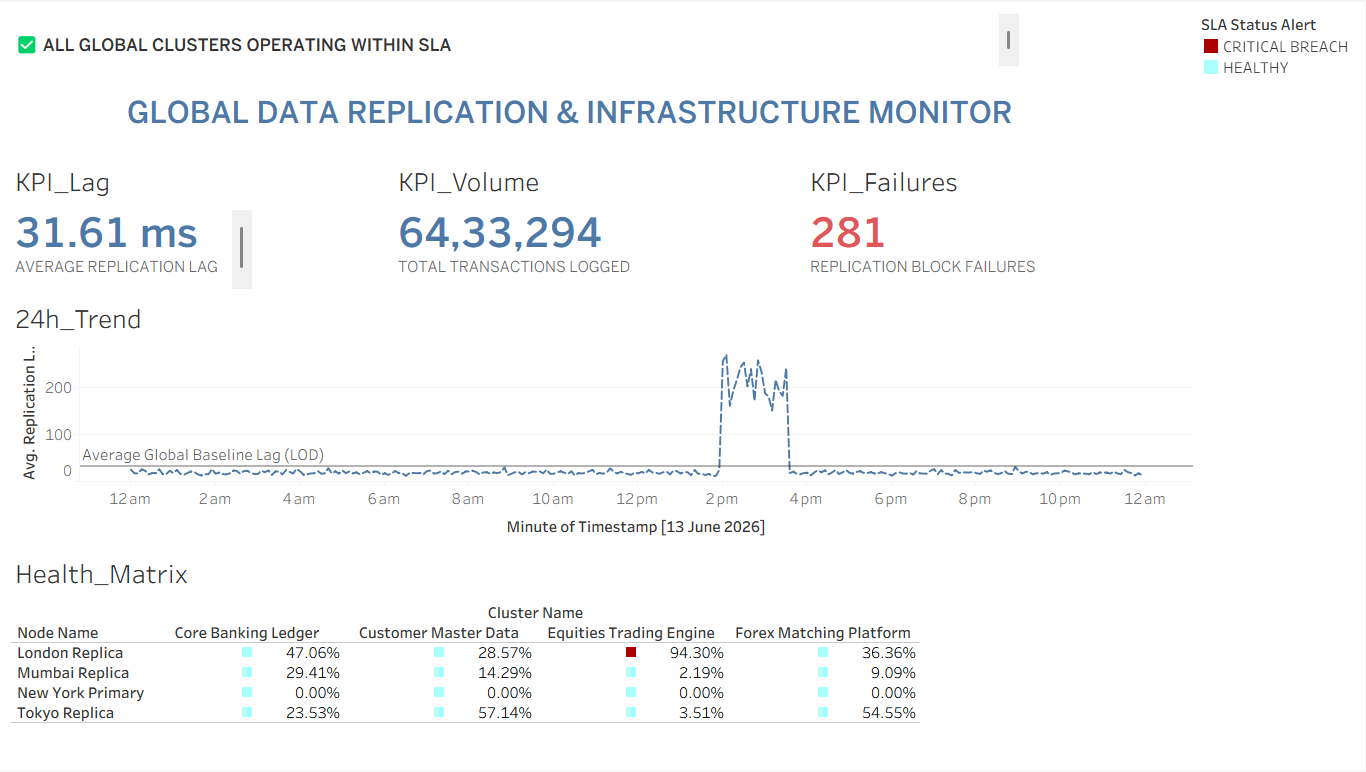

This screenshot's page, from the dashboard's own definition file:
{"tool":"tableau","page":{"name":"Dashboard 1","canvas":[1000,1000],"units":"permille","ordinal":0},"visuals":[{"type":"worksheet","title":"Header_Banner","mark":"Automatic","box":[5.9,10.4,871.1,78.1]},{"type":"legend","title":"Health_Matrix","param":"[federated.17d4egv13lv13q177gu4r0p7n7ws].[usr:Calculation_0274340364136449:nk]","box":[877,10.4,117.1,93.8]},{"type":"text","box":[5.9,88.5,871.1,112]},{"type":"worksheet","title":"KPI_Lag","mark":"Automatic","box":[5.9,200.5,280.1,178.4]},{"type":"worksheet","title":"KPI_Volume","mark":"Automatic","box":[285.9,200.5,302,178.4]},{"type":"worksheet","title":"KPI_Failures","mark":"Automatic","box":[587.9,200.5,289.1,178.4]},{"type":"worksheet","title":"24h_Trend","mark":"Automatic","rows":["replication_lag_ms"],"cols":["timestamp"],"box":[5.9,378.9,871.1,332]},{"type":"worksheet","title":"Health_Matrix","mark":"Square","rows":["node_name"],"cols":["cluster_name"],"box":[5.9,710.9,871.1,278.6]}]}

Visuals, with their boxes on the dashboard's canvas, which has no fixed pixel size, in thousandths of its width and height (x1, y1, x2, y2). These are canvas units, not pixel positions in the 1366x772 screenshot, which may show the page scaled, cropped or inside an application window:
"Header_Banner" worksheet: [left=6, top=10, right=877, bottom=88]
"Health_Matrix" legend: [left=877, top=10, right=994, bottom=104]
text: [left=6, top=88, right=877, bottom=200]
"KPI_Lag" worksheet: [left=6, top=200, right=286, bottom=379]
"KPI_Volume" worksheet: [left=286, top=200, right=588, bottom=379]
"KPI_Failures" worksheet: [left=588, top=200, right=877, bottom=379]
"24h_Trend" worksheet: [left=6, top=379, right=877, bottom=711]
"Health_Matrix" worksheet (Square marks): [left=6, top=711, right=877, bottom=990]
